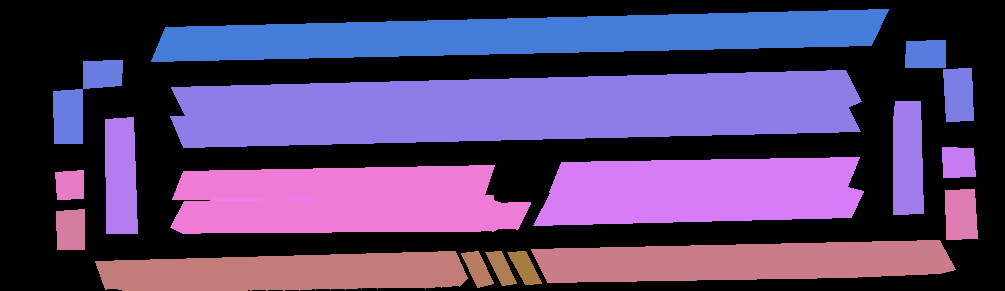parkingspot: (151, 9, 888, 61), (170, 98, 860, 147), (171, 70, 861, 116), (531, 240, 955, 282), (95, 251, 467, 291), (170, 195, 530, 233), (533, 186, 863, 225), (172, 165, 494, 199), (549, 157, 859, 192), (105, 117, 137, 233), (893, 101, 923, 214), (945, 189, 977, 239), (943, 68, 973, 121), (53, 89, 82, 143), (461, 251, 493, 287), (507, 251, 541, 284), (56, 209, 84, 249), (83, 60, 122, 88), (905, 40, 945, 67), (485, 251, 516, 285), (942, 147, 975, 177), (55, 170, 83, 199)
